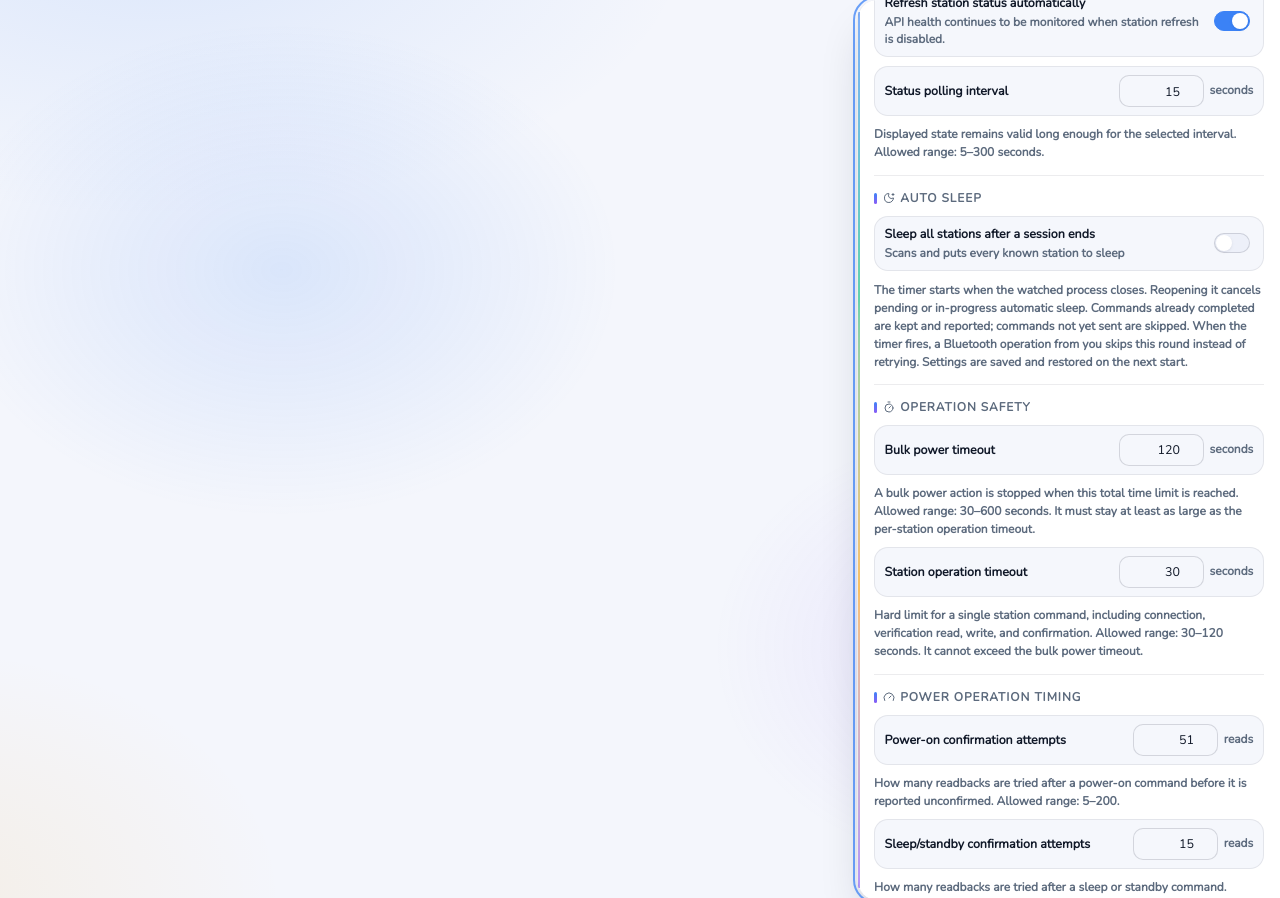
Test: SettingsDrawer › clamps and commits the bulk operation timeout in seconds
The image size is (1280, 898).
(page scrolled)
Replace the text in the number field labelled "Bulk power timeout" with "999" at (1161, 450), box top-left (1119, 434), bottom-right (1204, 466)
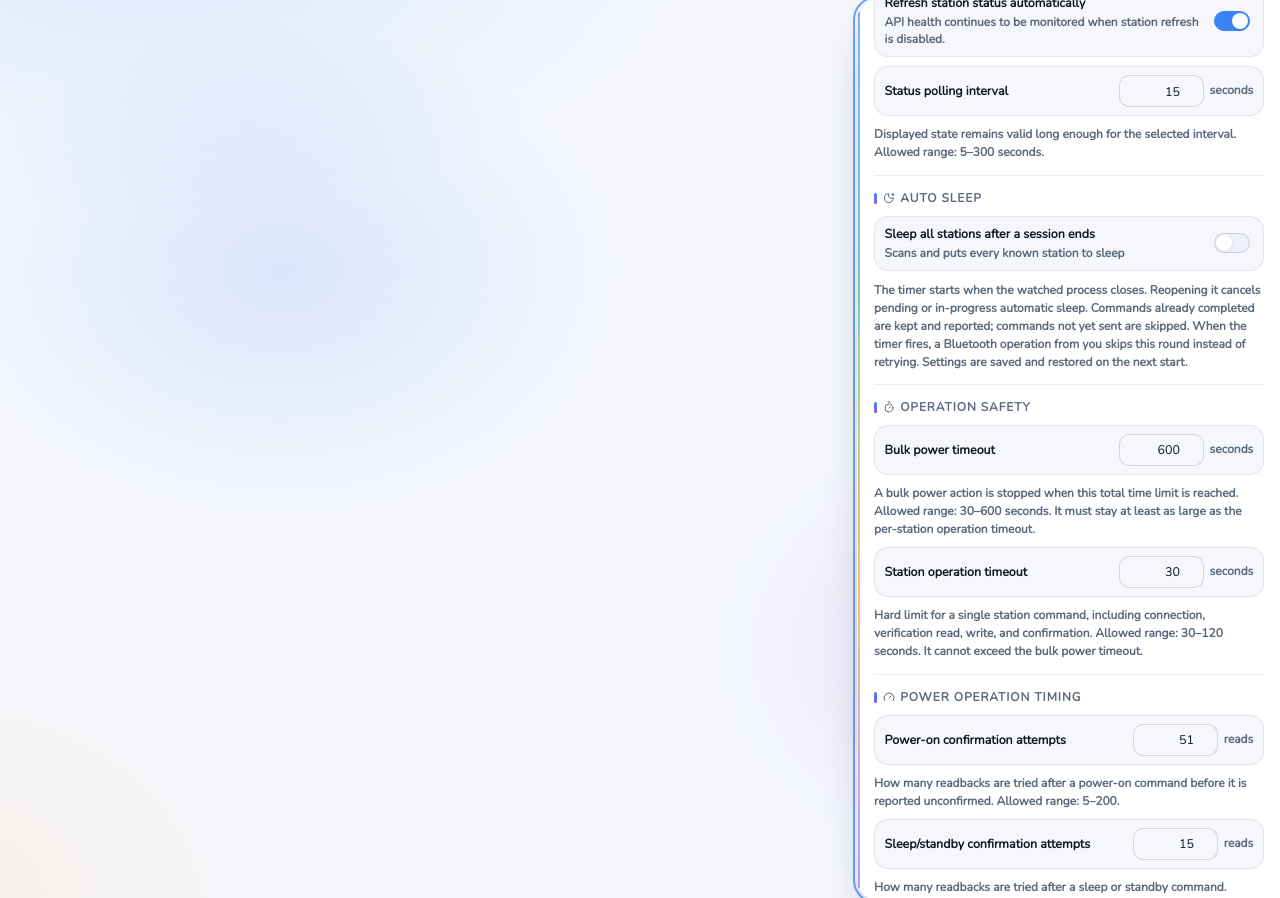
Expected: the number field labelled "Bulk power timeout" holds "600", top-left (1119, 434), bottom-right (1204, 466)
